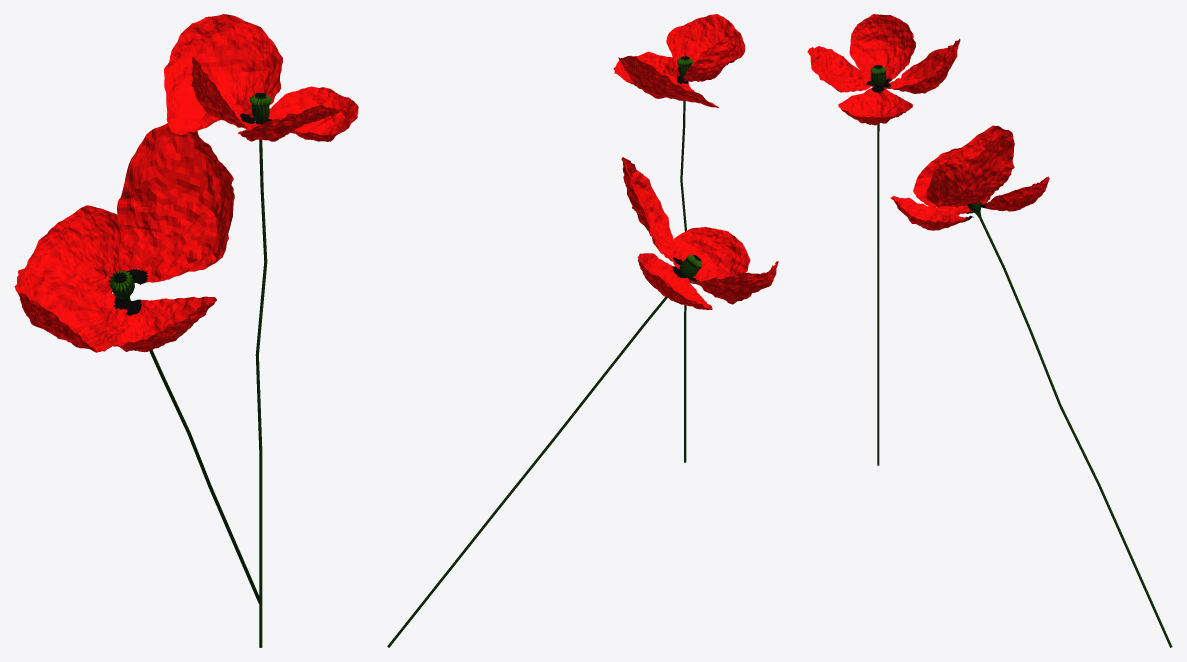
Rendered from poppies.obj.
3 renders of one model, left to right at view 1: azimuth 30°, elevation 25°; view 2: azimuth 150°, elevation 25°; view 3: azimuth 270°, elevation 25°, orthographic. The views are drawn at different scales.
Visible parts, largest first — view 1: Plane.004, Plane, Plane.007, Plane.006, Plane.005, Plane.001, Sphere, Sphere.001, Plane.002, Plane.003; view 2: Plane.005, Plane.004, Plane.003, Plane, Plane.006, Sphere.001, Plane.007, Plane.002, Sphere, Plane.001; view 3: Plane.004, Plane.002, Plane, Plane.001, Plane.003, Sphere.001, Sphere, Plane.005, Plane.007, Plane.006.
Part boxes in pixels (left/top/right/bottom): Plane.004: left=117, top=123, right=234, bottom=284; Plane: left=164, top=14, right=282, bottom=134; Plane.007: left=14, top=268, right=128, bottom=352; Plane.006: left=24, top=205, right=125, bottom=293; Plane.005: left=111, top=296, right=216, bottom=352; Plane.001: left=268, top=86, right=358, bottom=141; Sphere: left=249, top=92, right=271, bottom=647; Sphere.001: left=108, top=269, right=259, bottom=603; Plane.002: left=191, top=56, right=254, bottom=128; Plane.003: left=238, top=105, right=345, bottom=141; Plane.005: left=673, top=227, right=750, bottom=285; Plane.004: left=621, top=157, right=682, bottom=267; Plane.003: left=666, top=14, right=745, bottom=67; Plane: left=618, top=55, right=718, bottom=107; Plane.006: left=637, top=253, right=712, bottom=309; Sphere.001: left=387, top=255, right=702, bottom=647; Plane.007: left=688, top=261, right=778, bottom=304; Plane.002: left=683, top=36, right=738, bottom=81; Sphere: left=677, top=56, right=692, bottom=462; Plane.001: left=613, top=51, right=679, bottom=84; Plane.004: left=926, top=125, right=1014, bottom=207; Plane.002: left=849, top=14, right=915, bottom=85; Plane: left=882, top=38, right=960, bottom=93; Plane.001: left=838, top=85, right=912, bottom=125; Plane.003: left=807, top=46, right=874, bottom=92; Sphere.001: left=967, top=202, right=1172, bottom=647; Sphere: left=870, top=65, right=886, bottom=465; Plane.005: left=890, top=196, right=973, bottom=230; Plane.007: left=913, top=148, right=994, bottom=215; Plane.006: left=979, top=176, right=1049, bottom=211.
Size of the model in its own units: 13.21 by 24.71 by 15.09.
